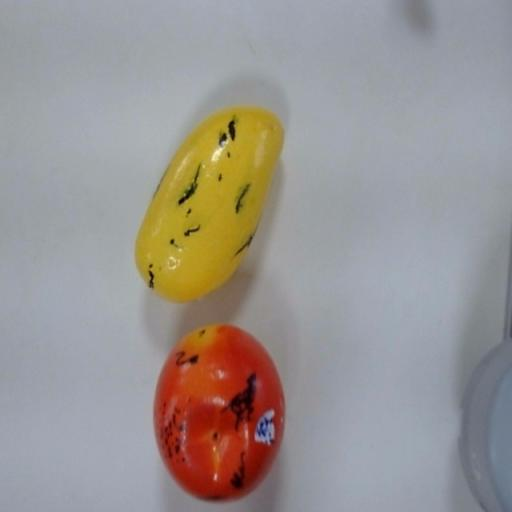Defective: (127, 96, 290, 318), (144, 319, 301, 512)
